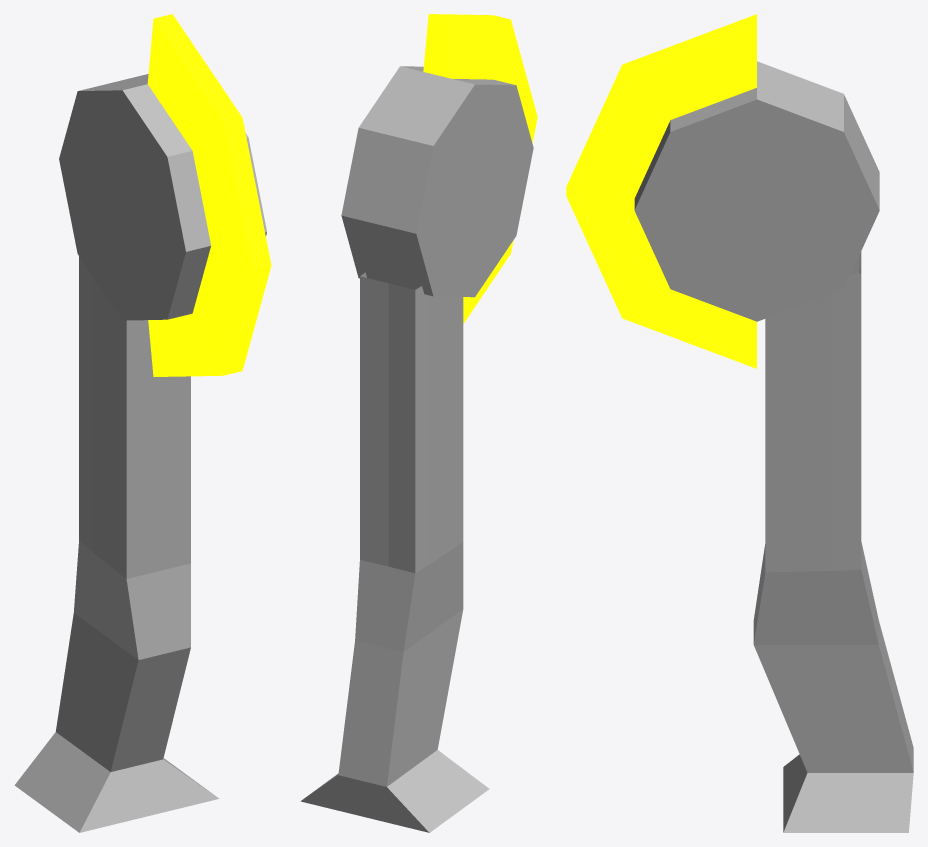
File: HeatAxe.fbx
3 views of the same model, side by side, from view 1: azimuth 30°, elevation 25°; view 2: azimuth 150°, elevation 25°; view 3: azimuth 270°, elevation 25° (orthographic). The views are drawn at different scales.
Parts seen in each view (by area): view 1: HeatAxe; view 2: HeatAxe; view 3: HeatAxe.
Boxes of the visible parts, bbox=[...] form: HeatAxe: bbox=[14, 14, 271, 832]; HeatAxe: bbox=[300, 14, 537, 832]; HeatAxe: bbox=[566, 14, 913, 832].
Size of the model in its own units: 54.44 by 121 by 301.
